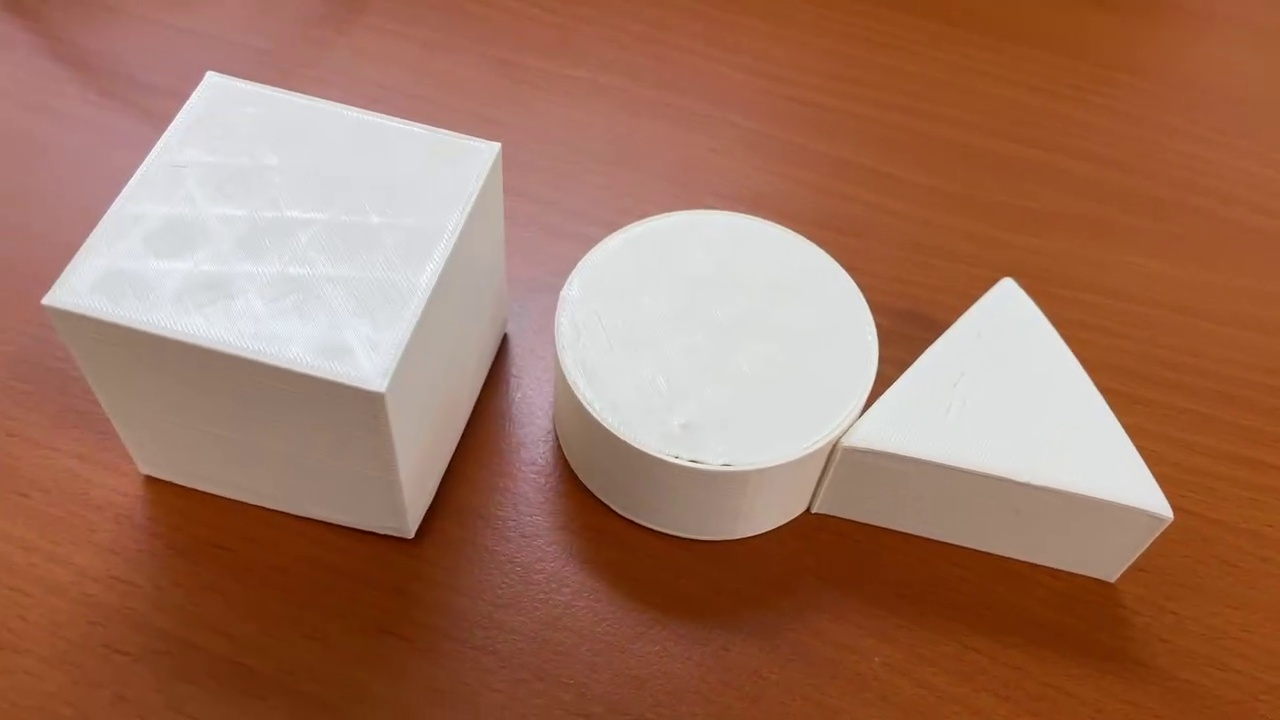Cube: (43, 65, 508, 541)
Cylinder_short: (548, 206, 877, 542)
Triangle_short: (808, 275, 1176, 585)
